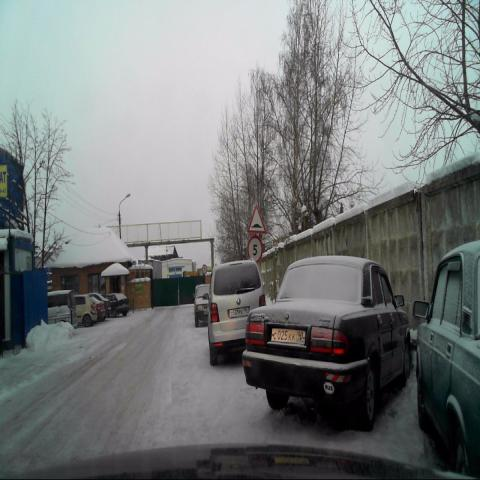1_17: (248, 205, 266, 233)
3_24: (246, 236, 262, 264)
